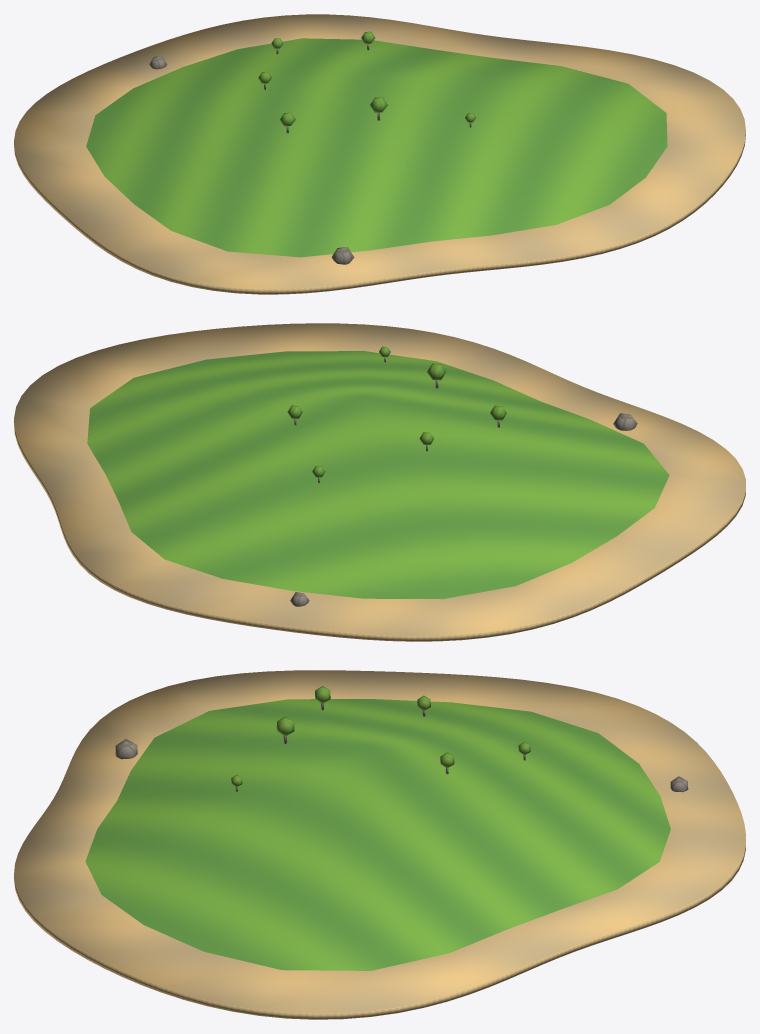
Rendered from ISL-L_LOD2.fbx.
3 renders of one model, top to bottom at view 1: azimuth 30°, elevation 25°; view 2: azimuth 150°, elevation 25°; view 3: azimuth 270°, elevation 25°, orthographic. The views are drawn at different scales.
Visible parts, largest first — view 1: ISL-L_LOD2_Assembled; view 2: ISL-L_LOD2_Assembled; view 3: ISL-L_LOD2_Assembled.
Boxes of the visible parts, <box> form: ISL-L_LOD2_Assembled: <box>14,14,745,294</box>; ISL-L_LOD2_Assembled: <box>14,323,745,641</box>; ISL-L_LOD2_Assembled: <box>14,670,745,1019</box>.
Bounding box in the file's own units: 188 × 170 × 26.81.
Materials: 3 (3 with a texture image).
